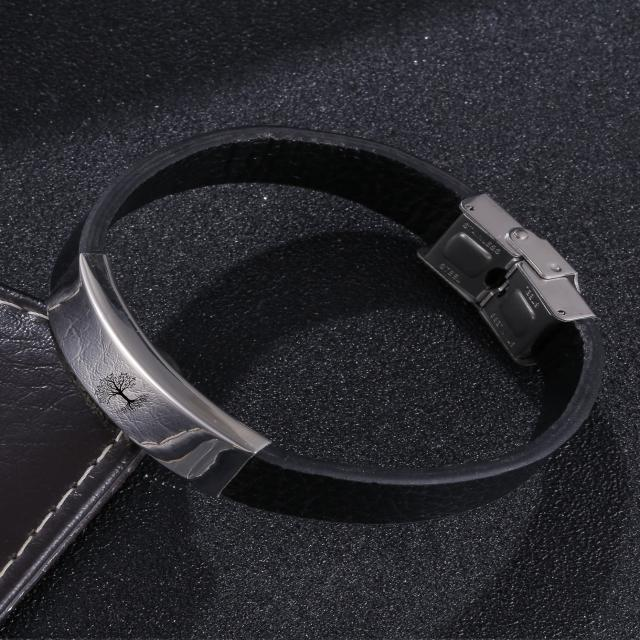bracelet: (29, 58, 640, 558)
